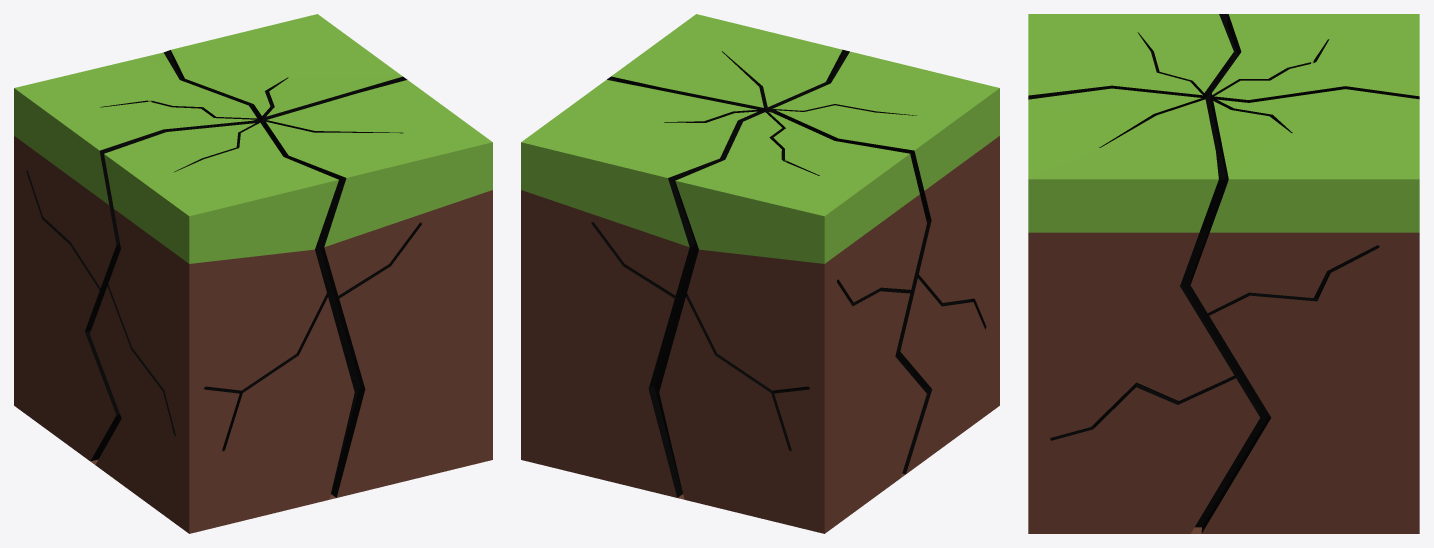
Rendered from Block_Dissolve.fbx.
The picture shows the model from 3 angles, left to right: view 1: azimuth 30°, elevation 25°; view 2: azimuth 150°, elevation 25°; view 3: azimuth 270°, elevation 25°; orthographic projection. The views are drawn at different scales.
Visible parts, largest first — view 1: Cube; view 2: Cube; view 3: Cube.
Part boxes in pixels (x1,y1,x2,y2): Cube: (14, 14, 492, 533); Cube: (521, 14, 999, 533); Cube: (1028, 14, 1419, 533).
Size of the model in its own units: 201 by 200 by 200.
